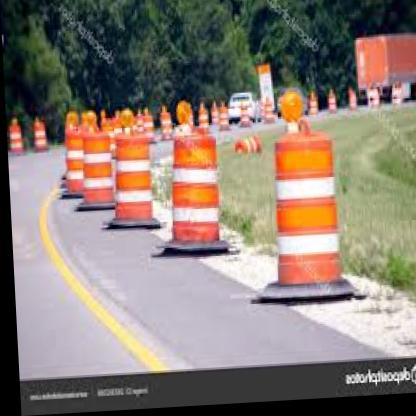obstacle: (269, 131, 339, 297), (164, 137, 219, 245), (110, 137, 149, 224)
